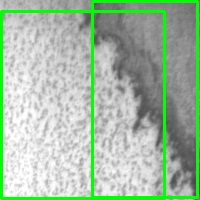patches: (92, 1, 197, 197)
pitted_surface: (1, 11, 164, 198)
